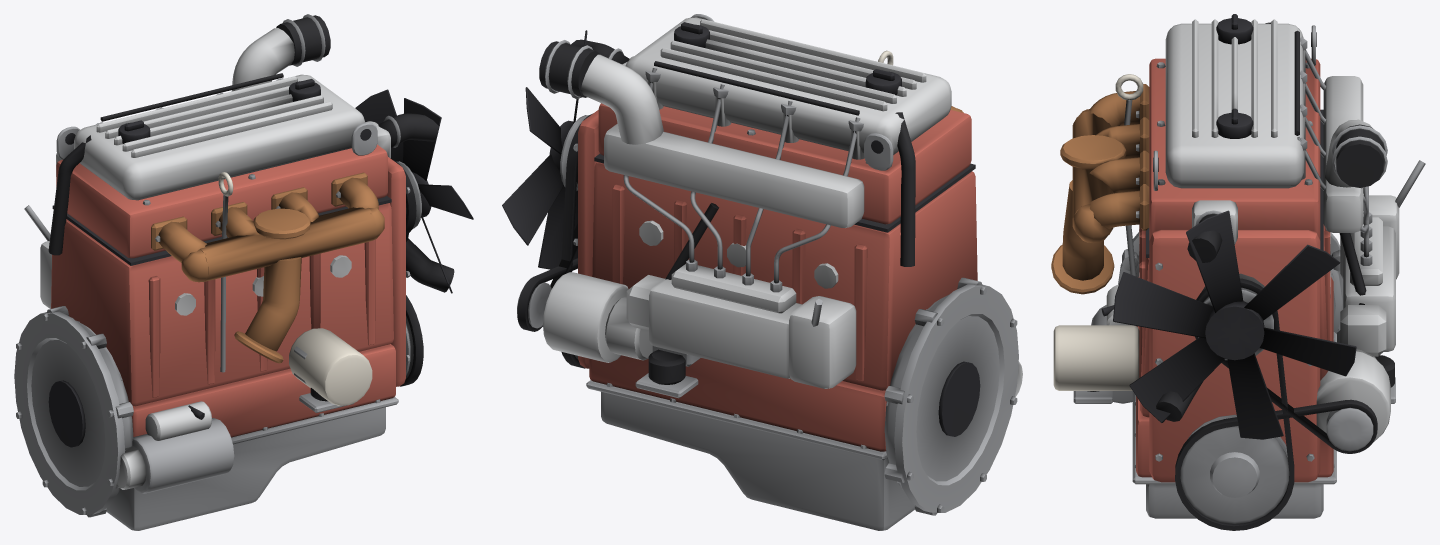
The model's file is eng_i4d.glb.
3 renders of one model, left to right at view 1: azimuth 30°, elevation 25°; view 2: azimuth 150°, elevation 25°; view 3: azimuth 270°, elevation 25°, orthographic. The views are drawn at different scales.
Visible parts, largest first — view 1: PART; view 2: PART; view 3: PART.
Boxes of the visible parts, x1,y1,x2,y2 form: PART: (14, 14, 473, 530); PART: (502, 14, 1022, 530); PART: (1051, 14, 1425, 530).
Bounding box in the file's own units: 0.7247 × 0.7325 × 0.5691.
